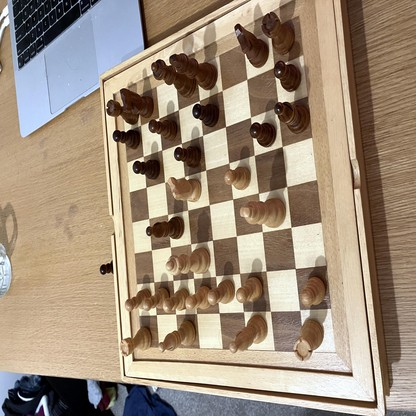bishop_black: (275, 101, 310, 134), (147, 217, 184, 239)
bishop_white: (228, 316, 268, 352), (158, 319, 197, 353)
king_black: (169, 54, 218, 90)
king_white: (239, 199, 286, 227)
knight_black: (233, 23, 269, 67), (121, 87, 154, 117)
knight_white: (167, 178, 202, 203)
pawn_black: (274, 62, 301, 91), (250, 122, 276, 147), (174, 144, 202, 167), (192, 104, 219, 125), (113, 128, 141, 148), (149, 120, 178, 139), (133, 160, 160, 179)
pawn_white: (301, 277, 326, 308), (186, 285, 213, 311), (163, 287, 189, 313), (236, 277, 263, 302), (208, 280, 235, 305), (143, 287, 170, 311), (126, 288, 151, 311), (224, 168, 251, 189)
queen_black: (151, 59, 195, 96)
queen_white: (166, 247, 211, 274)
rock_black: (262, 12, 294, 54), (106, 100, 138, 125)
rock_white: (294, 318, 324, 361), (120, 327, 153, 357)
